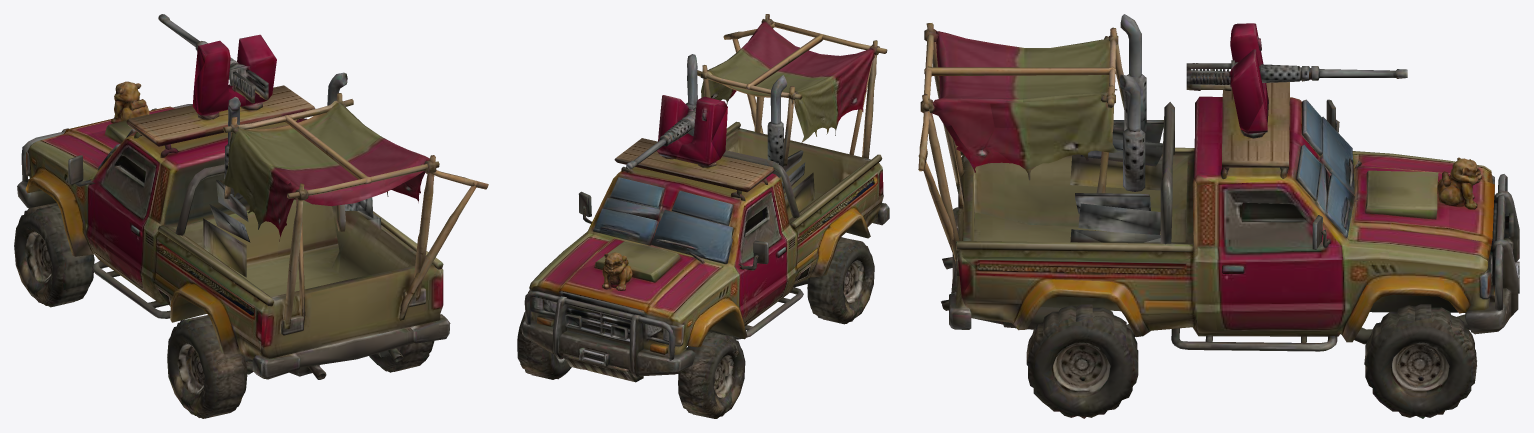
Rendered from teak_technical.glb.
The picture shows the model from 3 angles, left to right: view 1: azimuth 30°, elevation 25°; view 2: azimuth 150°, elevation 25°; view 3: azimuth 270°, elevation 25°; orthographic projection. The views are drawn at different scales.
Visible parts, largest first — view 1: Body, Trim, Turret; view 2: Body, Trim, Turret; view 3: Body, Trim, Turret, Barrel.
Boxes of the visible parts, left/top/right/bottom form: Body: left=14, top=56, right=488, bottom=418; Trim: left=38, top=34, right=442, bottom=348; Turret: left=192, top=39, right=254, bottom=119; Body: left=517, top=14, right=889, bottom=418; Trim: left=528, top=15, right=883, bottom=314; Turret: left=659, top=96, right=727, bottom=167; Body: left=918, top=14, right=1519, bottom=418; Trim: left=931, top=30, right=1491, bottom=331; Turret: left=1219, top=23, right=1319, bottom=121; Barrel: left=1319, top=69, right=1407, bottom=78.
Bounding box in the file's own units: 2.2 × 2.61 × 4.37.
Materials: 2 (2 with a texture image).
